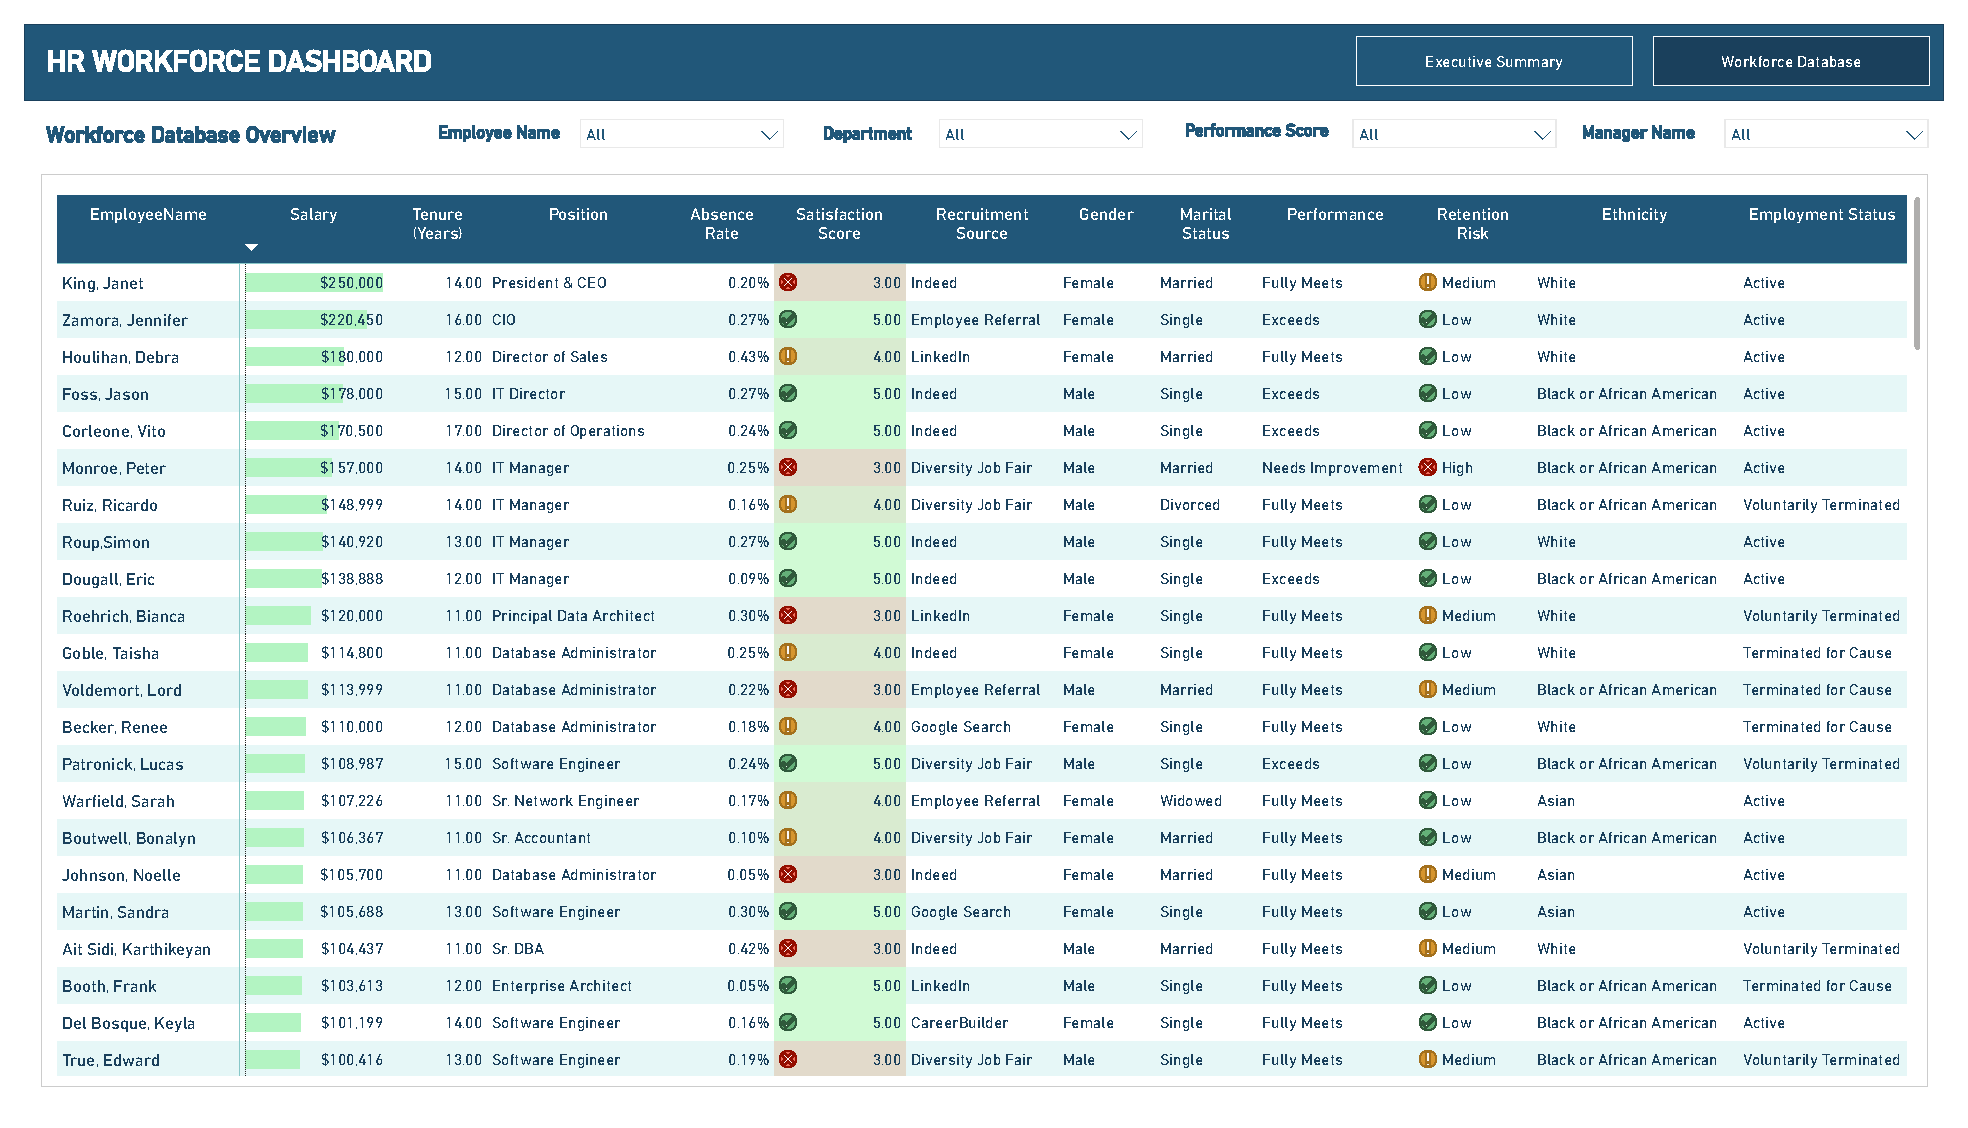

The dashboard page shown, as its layout file describes it:
{"tool":"powerbi","page":{"name":"Workforce Database","canvas":[1920,1080],"ordinal":1},"visuals":[{"type":"slicer","fields":{"Values":["Department.Department"]},"box":[905,85,224,46],"z":0},{"type":"textbox","box":[794,94,109,34],"z":1000},{"type":"textbox","box":[1156,91,163,33],"z":2000},{"type":"textbox","box":[1553,93,137,34],"z":3000},{"type":"slicer","fields":{"Values":["Performance.PerformanceScore"]},"box":[1319,85,224,46],"z":4000},{"type":"slicer","fields":{"Values":["Manager.ManagerName"]},"box":[1691,85,224,46],"z":5000},{"type":"textbox","box":[17,93,658,34],"z":6000},{"type":"shape","box":[0,0,1920,77],"z":7000},{"type":"textbox","box":[18,15,674,45],"z":8000},{"type":"pivotTable","fields":{"Rows":["Employee.EmployeeName"],"Values":["Measure.Total Salary Expenses","Measure.Avg. Tenure","Min(Employee.Position)","Measure.Avg. Absenteeism Rate","Measure.Avg. Satisfaction Score","Min(Employee.RecruitmentSource)","Min(Employee.Gender)","Min(Employee.MaritalStatus)","Min(Employee.Performance)","Min(Employee.Retention Risk)","Min(Employee.RaceDesc)","Min(Employee.EmploymentStatus)"]},"box":[17,150,1887,913],"z":9000},{"type":"slicer","fields":{"Values":["Employee.EmployeeName"]},"box":[546,85,224,46],"z":10000},{"type":"textbox","box":[409,93,141,33],"z":11000},{"type":"pageNavigator","box":[1332,12,575,50],"z":12000}]}

Visuals, with their boxes in screenshot pixels (x1, y1, x2, y2), scaled from the page's 1920x1080 canvas onto the 1968x1128 screenshot:
slicer - Department.Department: Rect(928, 89, 1157, 137)
textbox: Rect(814, 98, 926, 134)
textbox: Rect(1185, 95, 1352, 130)
textbox: Rect(1592, 97, 1732, 133)
slicer - Performance.PerformanceScore: Rect(1352, 89, 1582, 137)
slicer - Manager.ManagerName: Rect(1733, 89, 1963, 137)
textbox: Rect(17, 97, 692, 133)
shape: Rect(0, 0, 1967, 80)
textbox: Rect(18, 16, 709, 63)
pivotTable - Employee.EmployeeName x Measure.Total Salary Expenses: Rect(17, 157, 1952, 1110)
slicer - Employee.EmployeeName: Rect(560, 89, 789, 137)
textbox: Rect(419, 97, 564, 132)
pageNavigator: Rect(1365, 13, 1955, 65)
